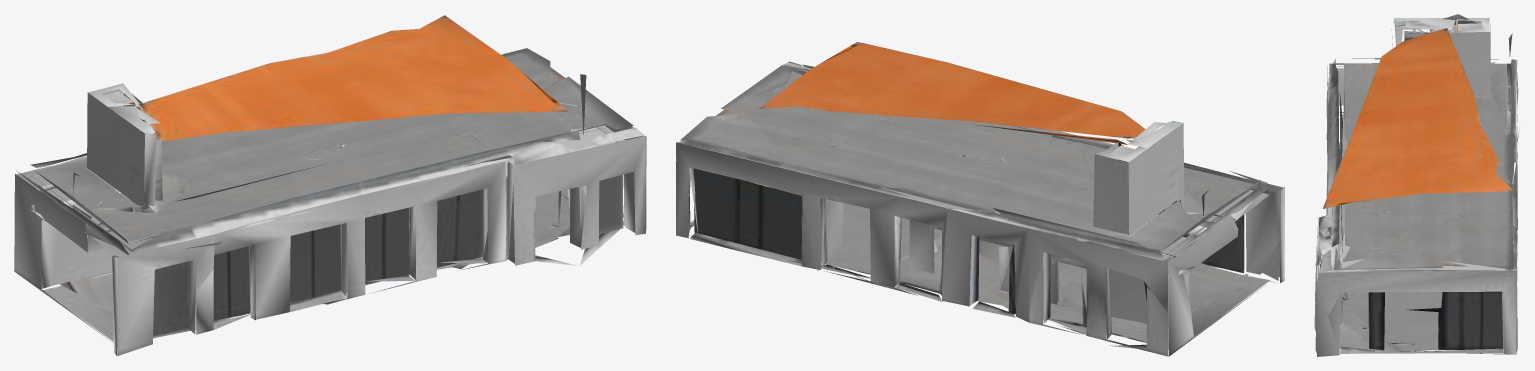
Rendered from kueste_clubhaus_lo.glb.
The picture shows the model from 3 angles, left to right: view 1: azimuth 30°, elevation 25°; view 2: azimuth 150°, elevation 25°; view 3: azimuth 270°, elevation 25°; orthographic projection. The views are drawn at different scales.
Visible parts, largest first — view 1: Prop; view 2: Prop; view 3: Prop.
Boxes of the visible parts, x1,y1,x2,y2 form: Prop: [14, 15, 646, 355]; Prop: [675, 42, 1284, 356]; Prop: [1314, 14, 1519, 356].
Bounding box in the file's own units: 3.03 × 1.12 × 1.22.
Materials: 1 (1 with a texture image).
